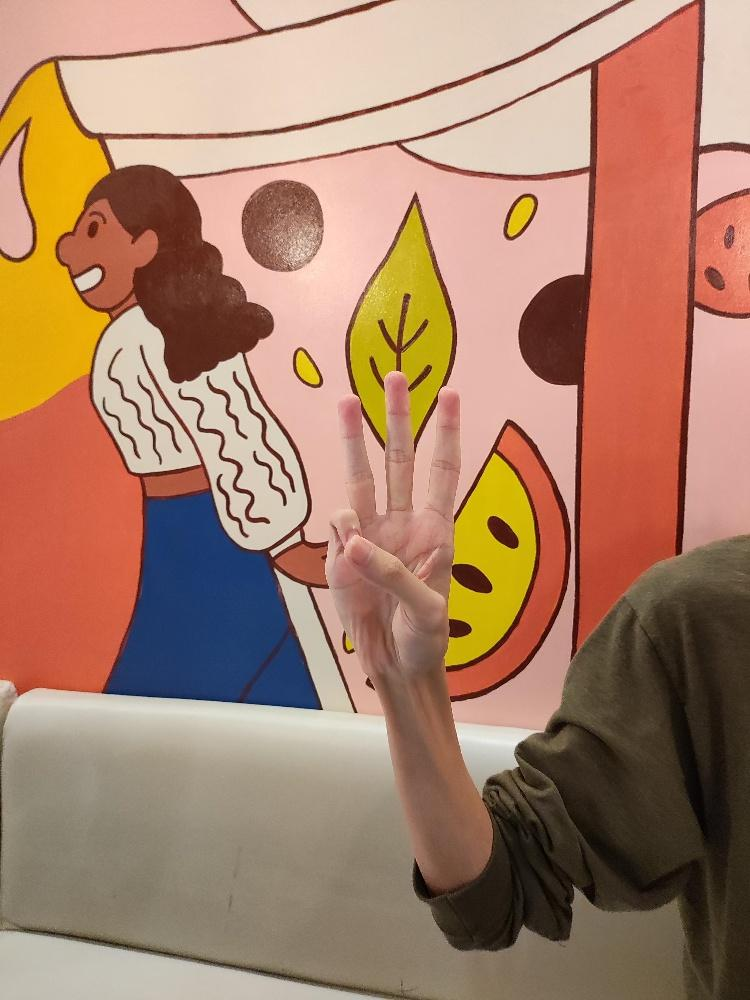w: (320, 367, 463, 683)
